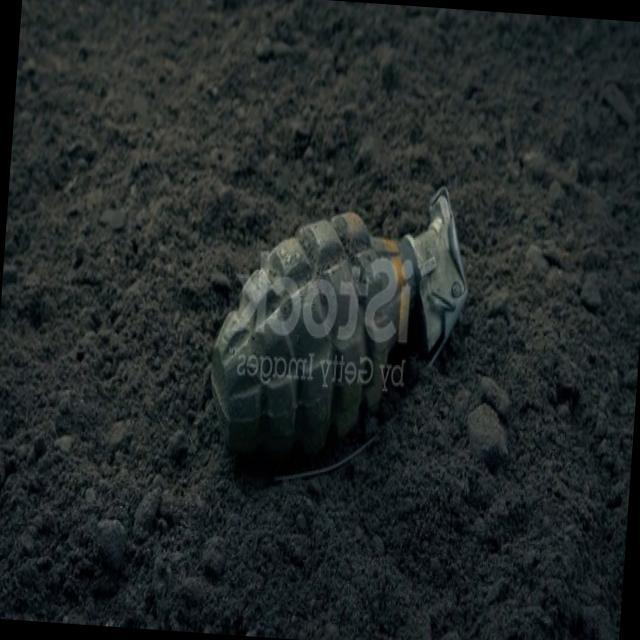grenade: (202, 157, 478, 496)
